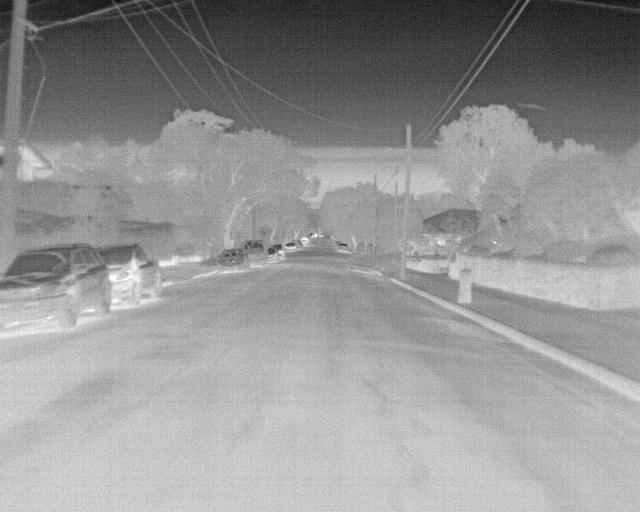car: (3, 246, 115, 330), (99, 242, 166, 311), (213, 249, 249, 277), (239, 238, 267, 269), (334, 240, 356, 256), (261, 246, 277, 262), (281, 241, 299, 255)
